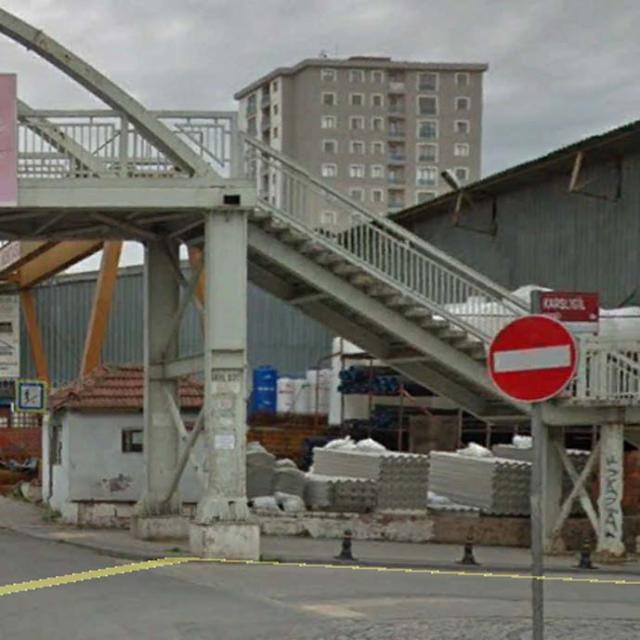girisyok: (488, 315, 576, 401)
